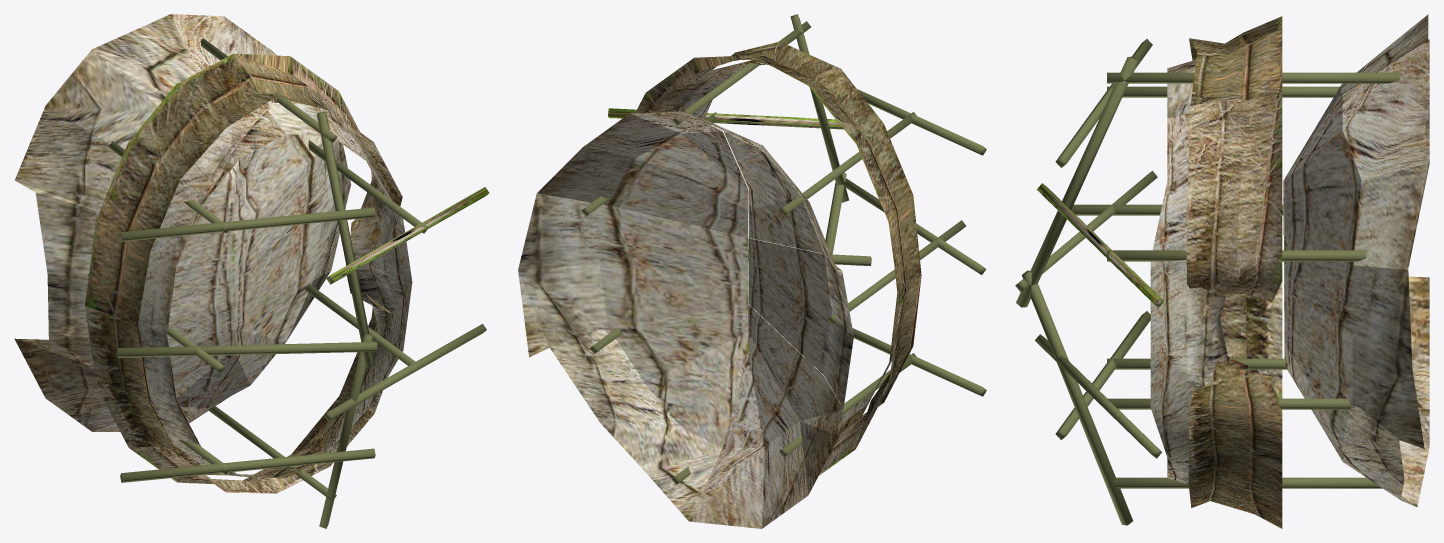
File: hut_000026.obj
3 renders of one model, left to right at view 1: azimuth 30°, elevation 25°; view 2: azimuth 150°, elevation 25°; view 3: azimuth 270°, elevation 25°, orthographic. The views are drawn at different scales.
Visible parts, largest first — view 1: Sphere.003, Sphere.002, Sphere.004, Sphere.001, Sphere.007, Sphere.008, Sphere.005, Sphere.006, Sphere, Cylinder.008_Cylinder.010, Cylinder.012_Cylinder.013, Cylinder.013_Cylinder.014 (+8 smaller); view 2: Sphere.005, Sphere, Sphere.008, Sphere.006, Sphere.007, Sphere.001, Sphere.002, Sphere.004, Sphere.003, Cylinder.010_Cylinder.011, Cylinder.013_Cylinder.014, Cylinder.012_Cylinder.013 (+7 smaller); view 3: Sphere.006, Sphere.001, Sphere.002, Sphere.003, Sphere.005, Sphere, Sphere.008, Cylinder.009, Cylinder.007, Cylinder.001, Sphere.004, Cylinder (+10 smaller).
Boxes of the visible parts, bbox=[...] form: Sphere.003: bbox=[137, 97, 412, 478]; Sphere.002: bbox=[85, 53, 384, 483]; Sphere.004: bbox=[14, 14, 234, 235]; Sphere.001: bbox=[116, 78, 402, 493]; Sphere.007: bbox=[35, 192, 234, 339]; Sphere.008: bbox=[14, 301, 234, 431]; Sphere.005: bbox=[234, 139, 350, 300]; Sphere.006: bbox=[169, 14, 321, 234]; Sphere: bbox=[189, 271, 330, 423]; Cylinder.008_Cylinder.010: bbox=[117, 342, 377, 357]; Cylinder.012_Cylinder.013: bbox=[120, 448, 375, 482]; Cylinder.013_Cylinder.014: bbox=[120, 207, 375, 241]; Sphere.005: bbox=[518, 193, 748, 357]; Sphere: bbox=[550, 304, 748, 520]; Sphere.008: bbox=[689, 304, 843, 528]; Sphere.006: bbox=[537, 111, 748, 238]; Sphere.007: bbox=[748, 238, 853, 408]; Sphere.001: bbox=[659, 41, 921, 444]; Sphere.002: bbox=[635, 55, 906, 475]; Sphere.004: bbox=[688, 112, 842, 276]; Sphere.003: bbox=[664, 59, 899, 434]; Cylinder.010_Cylinder.011: bbox=[608, 108, 843, 129]; Cylinder.013_Cylinder.014: bbox=[857, 89, 986, 155]; Cylinder.012_Cylinder.013: bbox=[852, 328, 986, 396]; Sphere.006: bbox=[1284, 39, 1429, 269]; Sphere.001: bbox=[1186, 33, 1254, 514]; Sphere.002: bbox=[1231, 16, 1282, 528]; Sphere.003: bbox=[1150, 59, 1247, 484]; Sphere.005: bbox=[1284, 236, 1424, 448]; Sphere: bbox=[1284, 311, 1416, 506]; Sphere.008: bbox=[1284, 276, 1429, 507]; Cylinder.009: bbox=[1016, 56, 1138, 307]; Cylinder.007: bbox=[1022, 270, 1132, 525]; Cylinder.001: bbox=[1107, 72, 1400, 83]; Sphere.004: bbox=[1283, 14, 1428, 235]; Cylinder: bbox=[1108, 477, 1382, 488].
Size of the model in its own units: 4.43 by 4.88 by 3.77.
